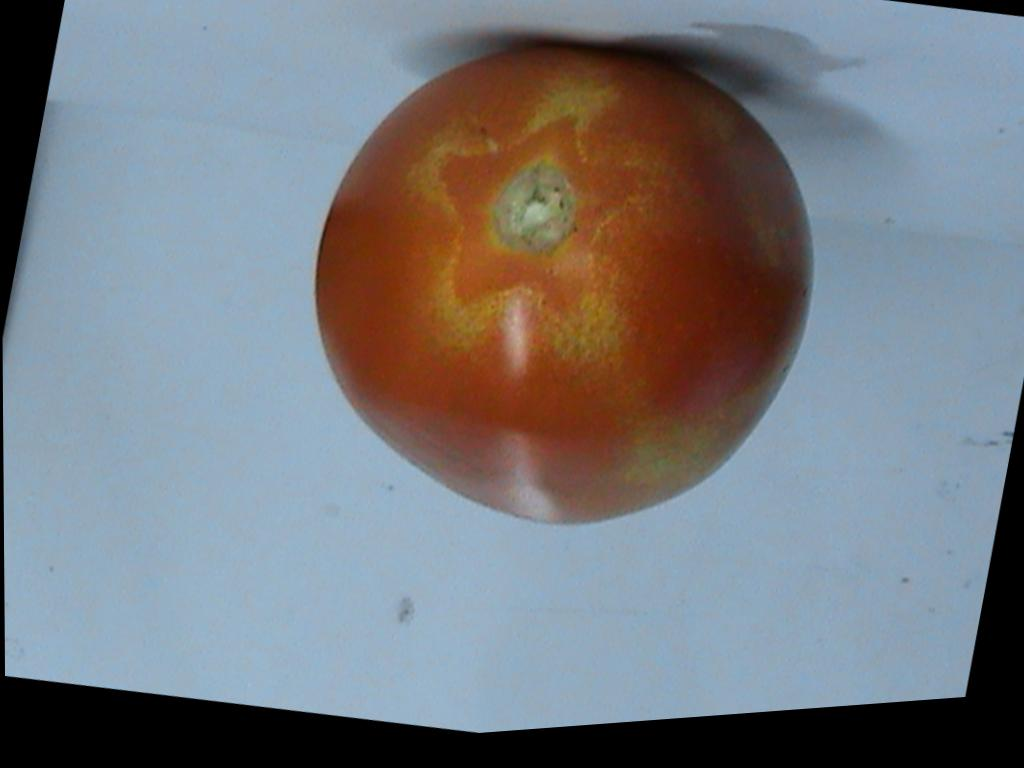bruise_discoloration: (405, 72, 705, 382), (605, 368, 789, 506)
tomato: (318, 49, 812, 522)
